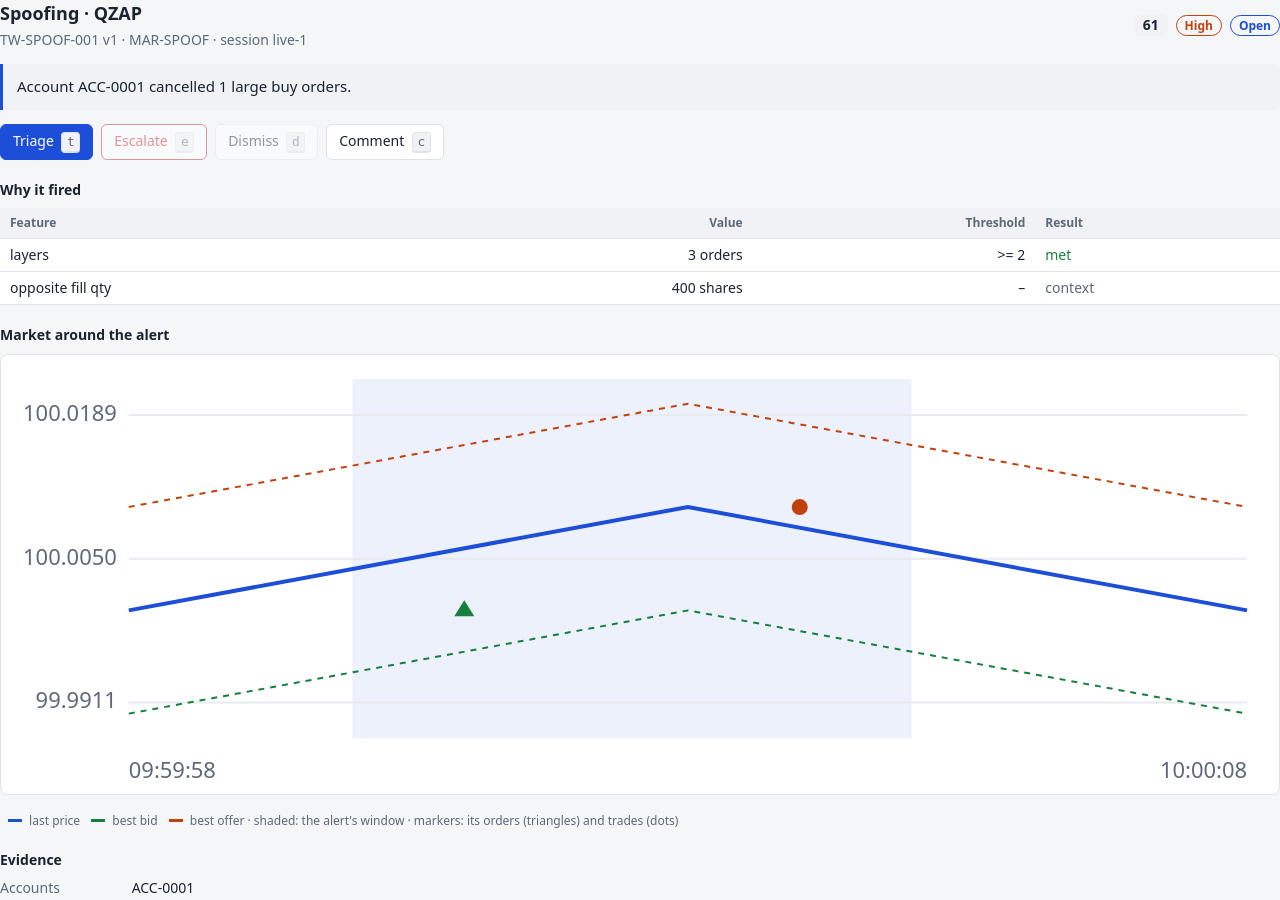
Test: AlertDetail › walks the alert through the workflow, requiring a reason to dismiss
Expected: the text "Account ACC-0001 cancelled 1 large buy orders." is shown, [0, 64, 1279, 110]
Expected: the button "Escalate e" is disabled, [101, 124, 207, 160]
Type keys "t"
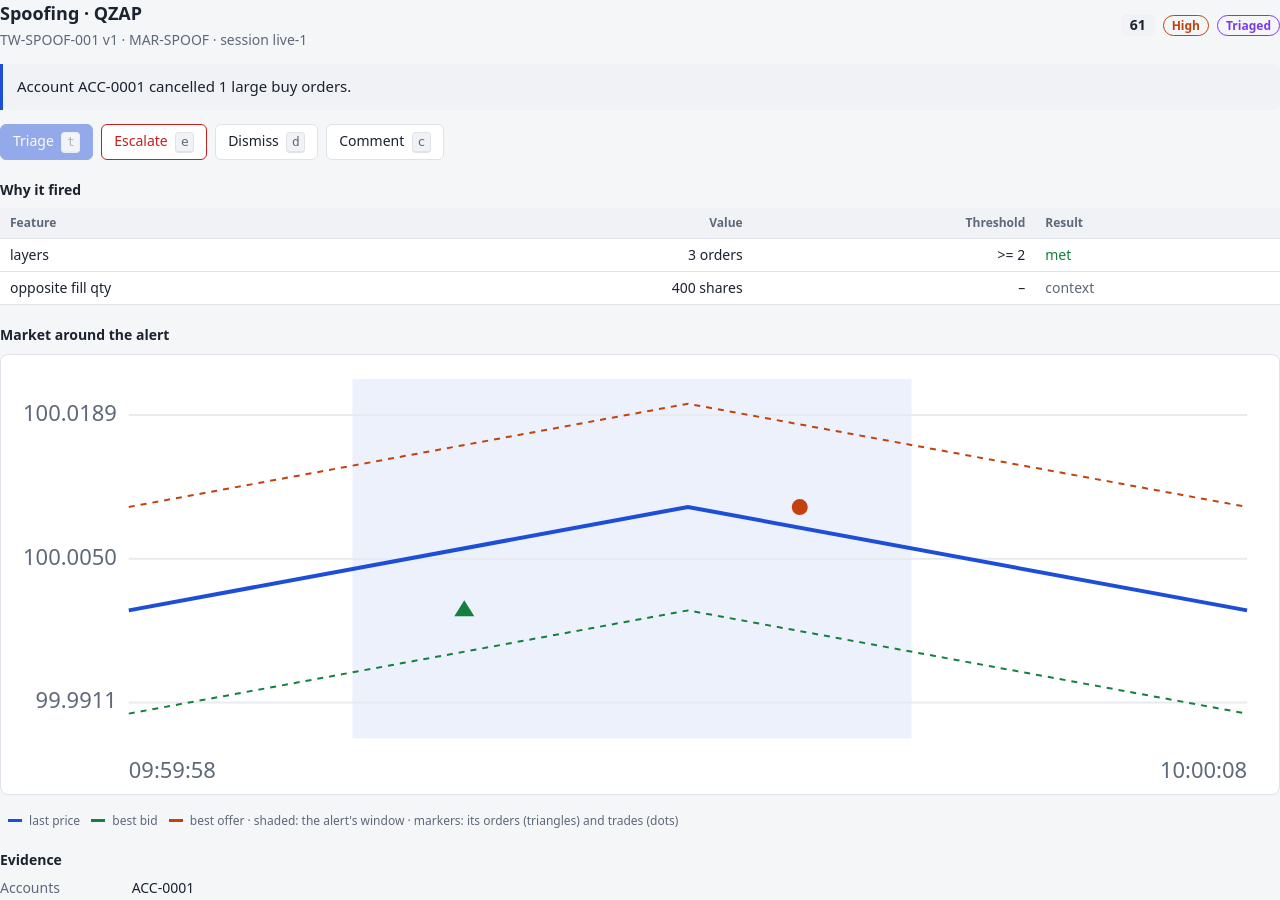
Now the button "Dismiss d" is enabled, box [215, 124, 318, 160]
Type keys "d"
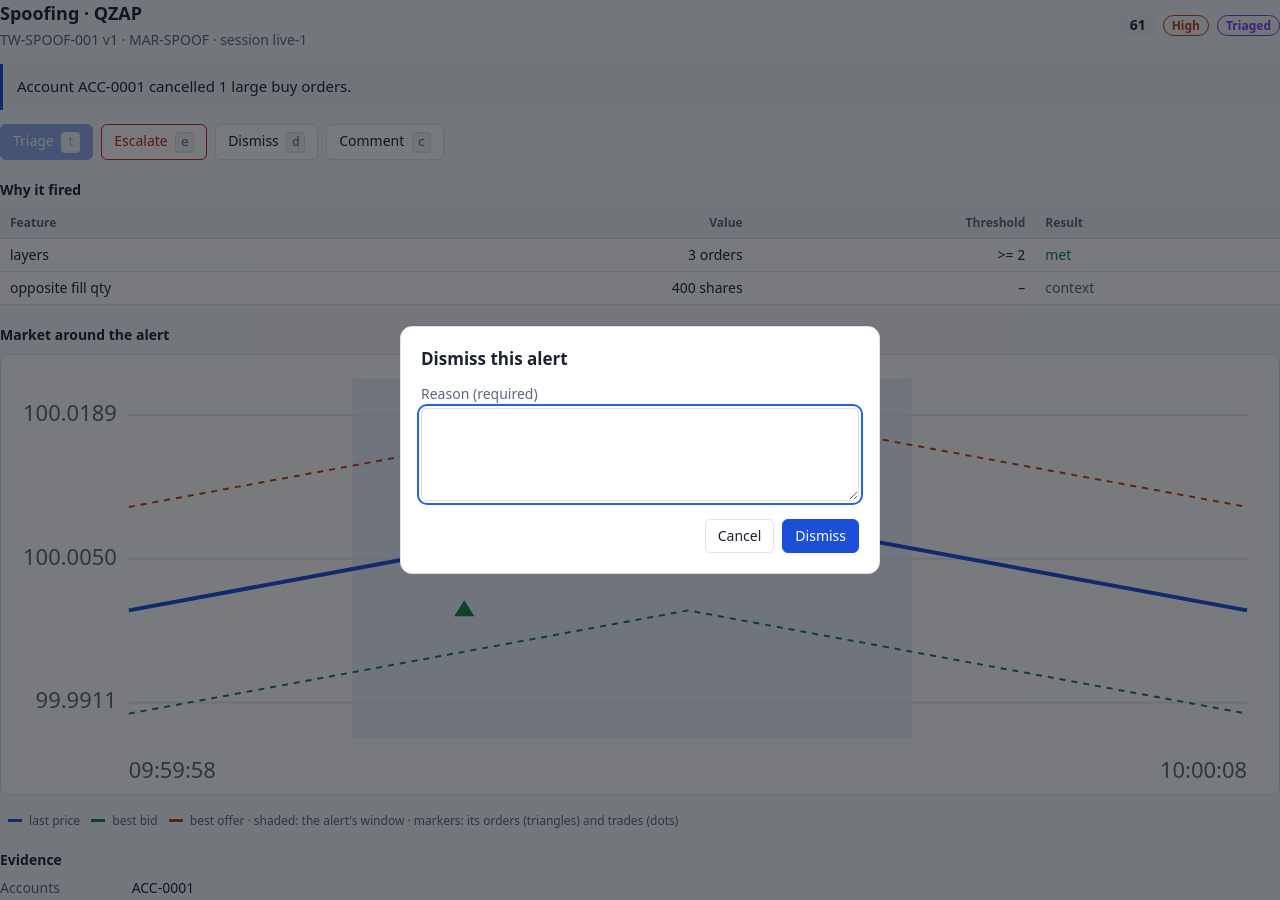
Click the button "Dismiss" at [821, 536], box [782, 519, 859, 553]
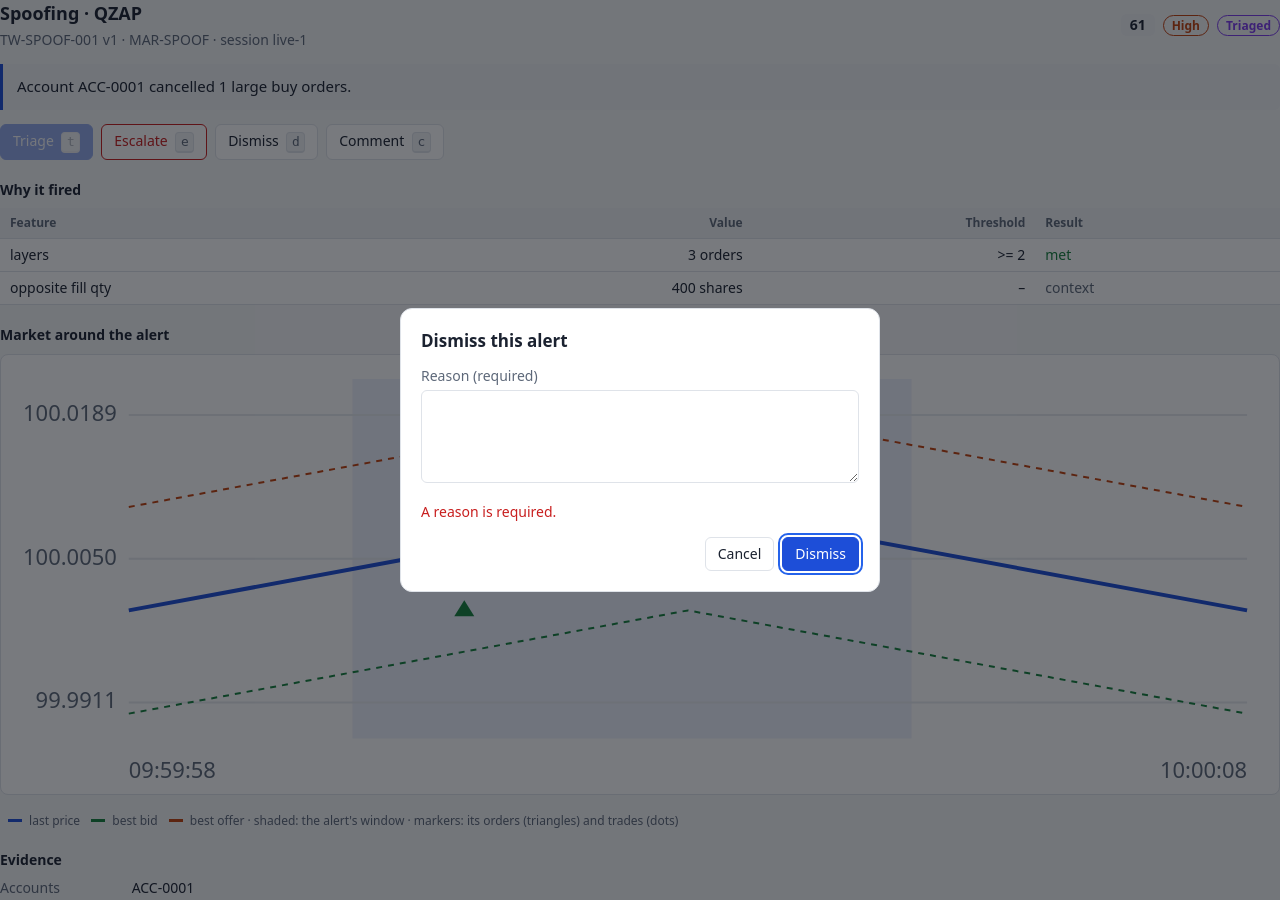
Now the text "A reason is required." is shown, box [421, 502, 556, 521]
Type "legitimate hedge" into the text box labelled "Reason (required)" at [640, 436], box [421, 390, 859, 483]
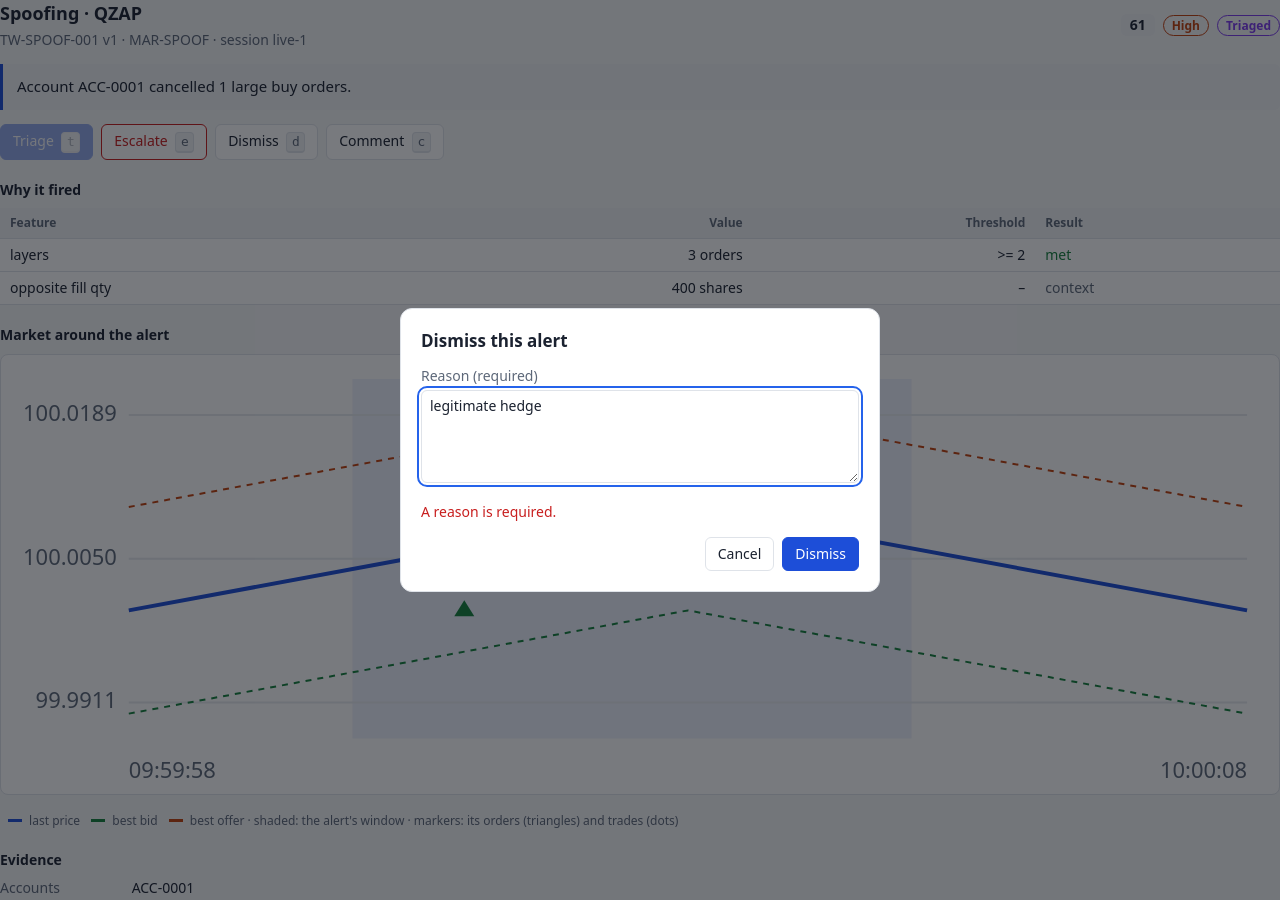
Click the button "Dismiss" at [821, 554], box [782, 537, 859, 571]
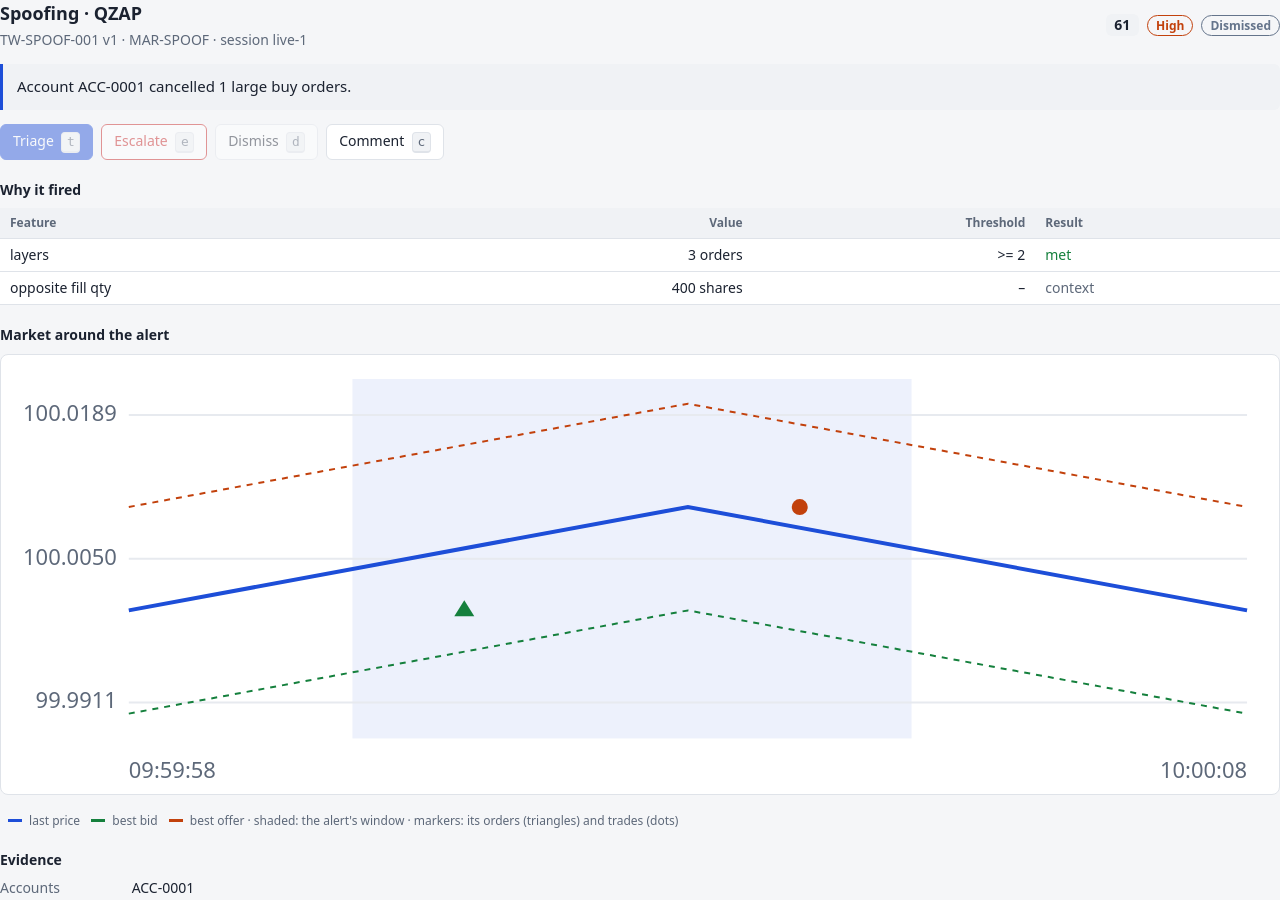
Now the heading "Dismiss this alert" is gone
